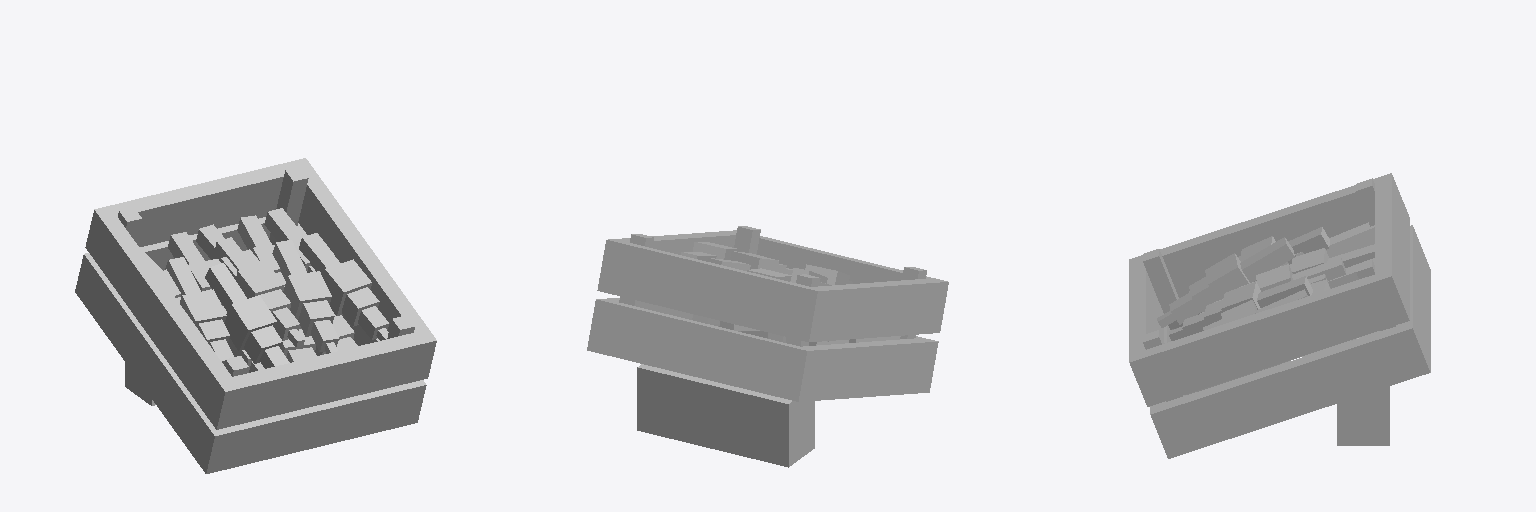
The model's file is 1747_carrot_crate.obj.
The picture shows the model from 3 angles: view 1: azimuth 30°, elevation 25°; view 2: azimuth 150°, elevation 25°; view 3: azimuth 270°, elevation 25°; orthographic projection.
Parts seen in each view (by area): view 1: Plank8, Carrot1a, Plank2, Plank9, Plank3, Plank11, Plank5, Carrot1b, Carrot1c, Carrot6, Carrot8, Carrot7 (+5 smaller); view 2: Block, Plank11, Plank12, Plank9, Plank8, Plank2, Plank5, Carrot1a, Plank6, corner2; view 3: Plank5, Plank6, Plank8, Carrot1a, Plank11, Block, Plank2, Plank12, Carrot6, corner1, Carrot1b, Carrot1c (+5 smaller).
Part boxes in pixels (bbox=[...]): Plank8: bbox=[85, 206, 240, 429]; Carrot1a: bbox=[158, 233, 371, 372]; Plank2: bbox=[232, 333, 421, 425]; Plank9: bbox=[75, 253, 229, 473]; Plank3: bbox=[221, 384, 411, 470]; Plank11: bbox=[110, 162, 294, 246]; Plank5: bbox=[291, 158, 436, 381]; Carrot1b: bbox=[176, 266, 379, 372]; Carrot1c: bbox=[209, 306, 389, 368]; Carrot6: bbox=[168, 232, 246, 311]; Carrot8: bbox=[264, 208, 340, 276]; Carrot7: bbox=[237, 215, 306, 280]; Block: bbox=[637, 364, 814, 467]; Plank11: bbox=[612, 243, 808, 338]; Plank12: bbox=[602, 302, 799, 397]; Plank9: bbox=[784, 338, 938, 401]; Plank8: bbox=[794, 278, 948, 341]; Plank2: bbox=[757, 236, 930, 283]; Plank5: bbox=[597, 230, 736, 293]; Carrot1a: bbox=[693, 242, 877, 342]; Plank6: bbox=[587, 298, 692, 353]; corner2: bbox=[734, 226, 760, 254]; Plank5: bbox=[1129, 269, 1409, 406]; Plank6: bbox=[1150, 321, 1430, 458]; Plank8: bbox=[1129, 173, 1409, 297]; Carrot1a: bbox=[1205, 236, 1333, 380]; Plank11: bbox=[1375, 180, 1409, 312]; Block: bbox=[1337, 338, 1389, 445]; Plank2: bbox=[1129, 263, 1163, 354]; Plank12: bbox=[1396, 232, 1430, 364]; Carrot6: bbox=[1240, 237, 1374, 282]; corner1: bbox=[1143, 249, 1178, 329]; Carrot1b: bbox=[1189, 256, 1291, 387]; Carrot1c: bbox=[1169, 281, 1255, 394].
Size of the model in its own units: 0.875 by 1.46 by 1.08.